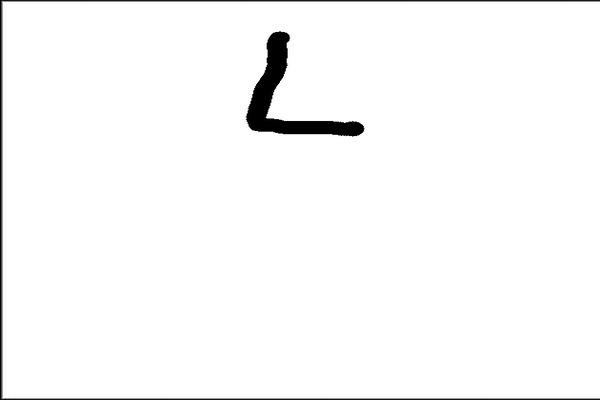L: (239, 26, 368, 141)
